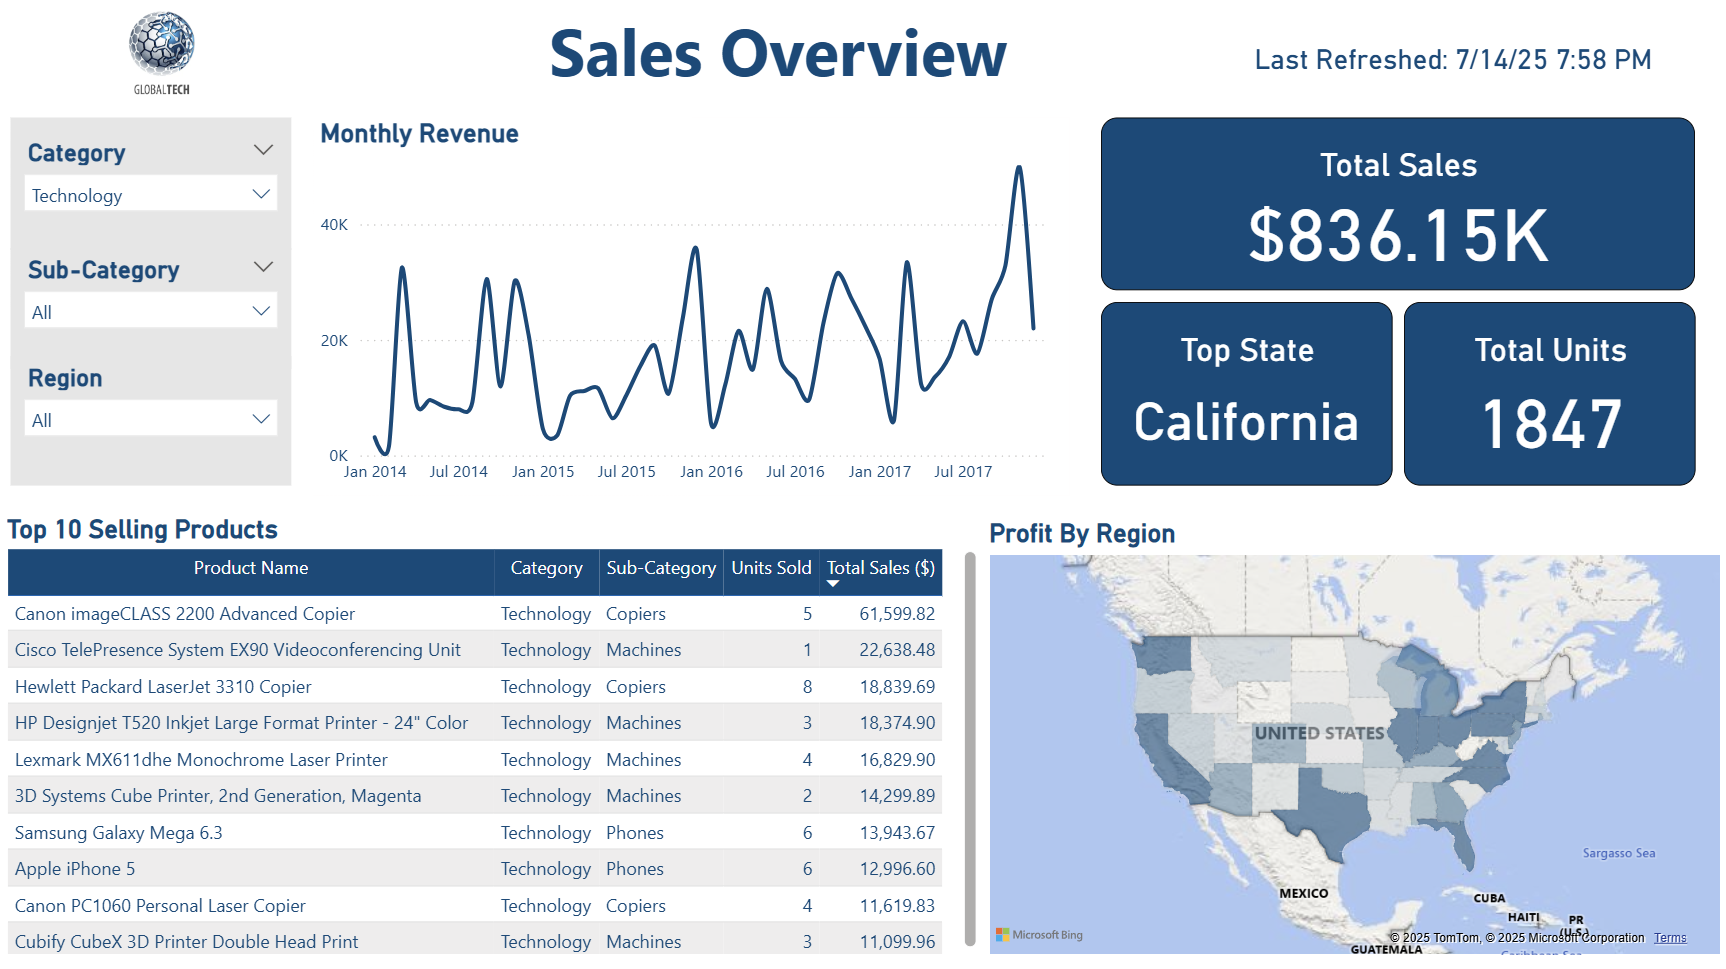

What the dashboard file says about the page in this screenshot:
{"tool":"powerbi","page":{"name":"Page 1","canvas":[1280,720],"ordinal":0},"visuals":[{"type":"lineChart","title":"Monthly Revenue","fields":{"Y":["Sum(monthly_sales.Sales)"],"Category":["monthly_sales.Date.Variation.Date Hierarchy.Year"]},"box":[232,88,560,280],"z":0},{"type":"slicer","fields":{"Values":["regional.Region Hierarchy.Region"]},"box":[8,264,208,96],"z":1000},{"type":"textbox","box":[144,0,864,80],"z":2000},{"type":"filledMap","title":"Profit By Region","fields":{"Category":["regional.State"]},"box":[728,384,552,328],"z":3000},{"type":"cardVisual","fields":{"Data":["categories.Last Refreshed"]},"box":[912,0,368,80],"z":4000},{"type":"slicer","fields":{"Values":["categories.Category"]},"box":[8,88,208,98],"z":5000},{"type":"slicer","fields":{"Values":["categories.Sub-Category"]},"box":[8,184,208,89],"z":6000},{"type":"tableEx","title":"Top 20 Selling Products","fields":{"Values":["products.Product Name","products.Category","products.Sub-Category","products.count","products.sum"]},"box":[0,376,728,336],"z":7000},{"type":"card","title":"Total Sales","fields":{"Values":["products.Sum Product Sales"]},"box":[816,88,440,128],"z":8000},{"type":"card","title":"Total Units","fields":{"Values":["monthly_sales.Total Units"]},"box":[1040,224,216,136],"z":9000},{"type":"card","title":"Top State","fields":{"Values":["regional.Top Region"]},"box":[816,224,216,136],"z":10000},{"type":"image","box":[48,0,144,80],"z":11000}]}

Visuals, with their boxes in screenshot pixels (x1, y1, x2, y2), scaled from the page's 1280x720 canvas onto the 1726x969 screenshot:
"Monthly Revenue" lineChart: (313, 118, 1068, 495)
slicer - regional.Region Hierarchy.Region: (11, 355, 291, 485)
textbox: (194, 0, 1359, 108)
"Profit By Region" filledMap: (982, 517, 1725, 958)
cardVisual - categories.Last Refreshed: (1230, 0, 1725, 108)
slicer - categories.Category: (11, 118, 291, 250)
slicer - categories.Sub-Category: (11, 248, 291, 367)
"Top 20 Selling Products" tableEx: (0, 506, 982, 958)
"Total Sales" card: (1100, 118, 1694, 291)
"Total Units" card: (1402, 301, 1694, 485)
"Top State" card: (1100, 301, 1392, 485)
image: (65, 0, 259, 108)
